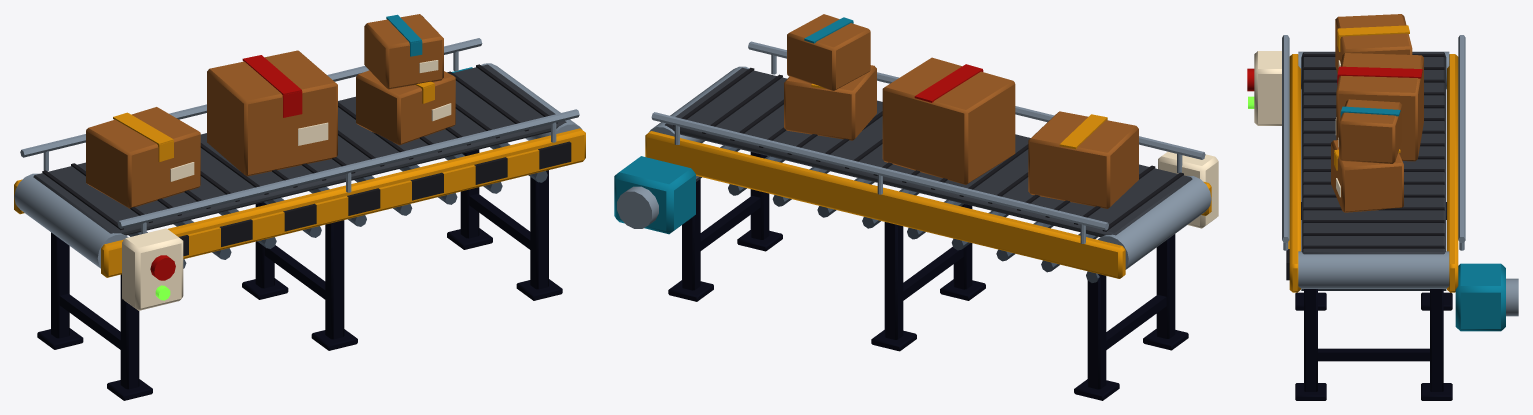
The model's file is LoadingConveyor.fbx.
3 renders of one model, left to right at view 1: azimuth 30°, elevation 25°; view 2: azimuth 150°, elevation 25°; view 3: azimuth 270°, elevation 25°, orthographic. The views are drawn at different scales.
Visible parts, largest first — view 1: LoadingConveyor; view 2: LoadingConveyor; view 3: LoadingConveyor.
Boxes of the visible parts, x1,y1,x2,y2 form: LoadingConveyor: (14, 14, 585, 400); LoadingConveyor: (614, 14, 1218, 400); LoadingConveyor: (1247, 14, 1518, 400).
Bounding box in the file's own units: 8.15 × 4.19 × 4.31.
